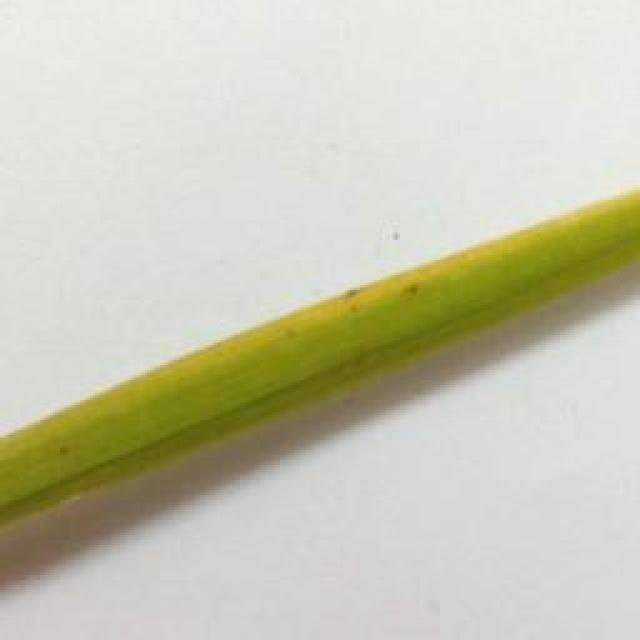Brown_Spot: (340, 279, 368, 316), (53, 434, 82, 461), (404, 280, 429, 298)
